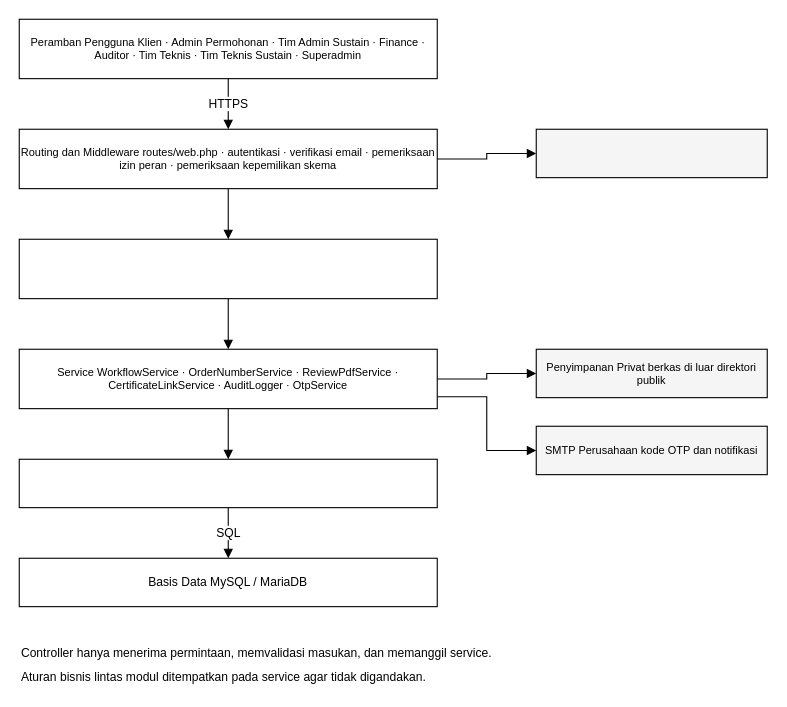
Image size: 787x707. Some labels were removed from this diagram. The centre of each missing label's shape, as x and y in pixels:
"Cloudflare Turnstile verifikasi formulir publik" belongs at pixel 651 153.
"Controller Auth · Client · Internal · Superadmin" belongs at pixel 227 268.
"Model Eloquent 58 tabel aplikasi" belongs at pixel 227 483.
